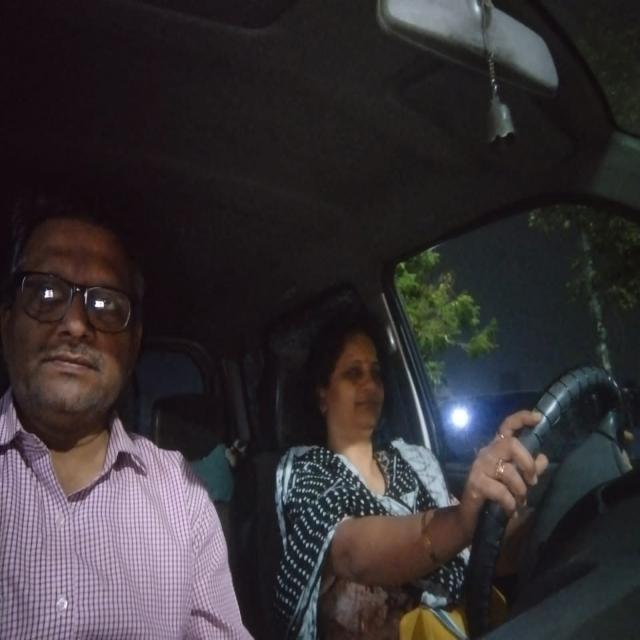person: (2, 186, 152, 430), (306, 301, 394, 445)
